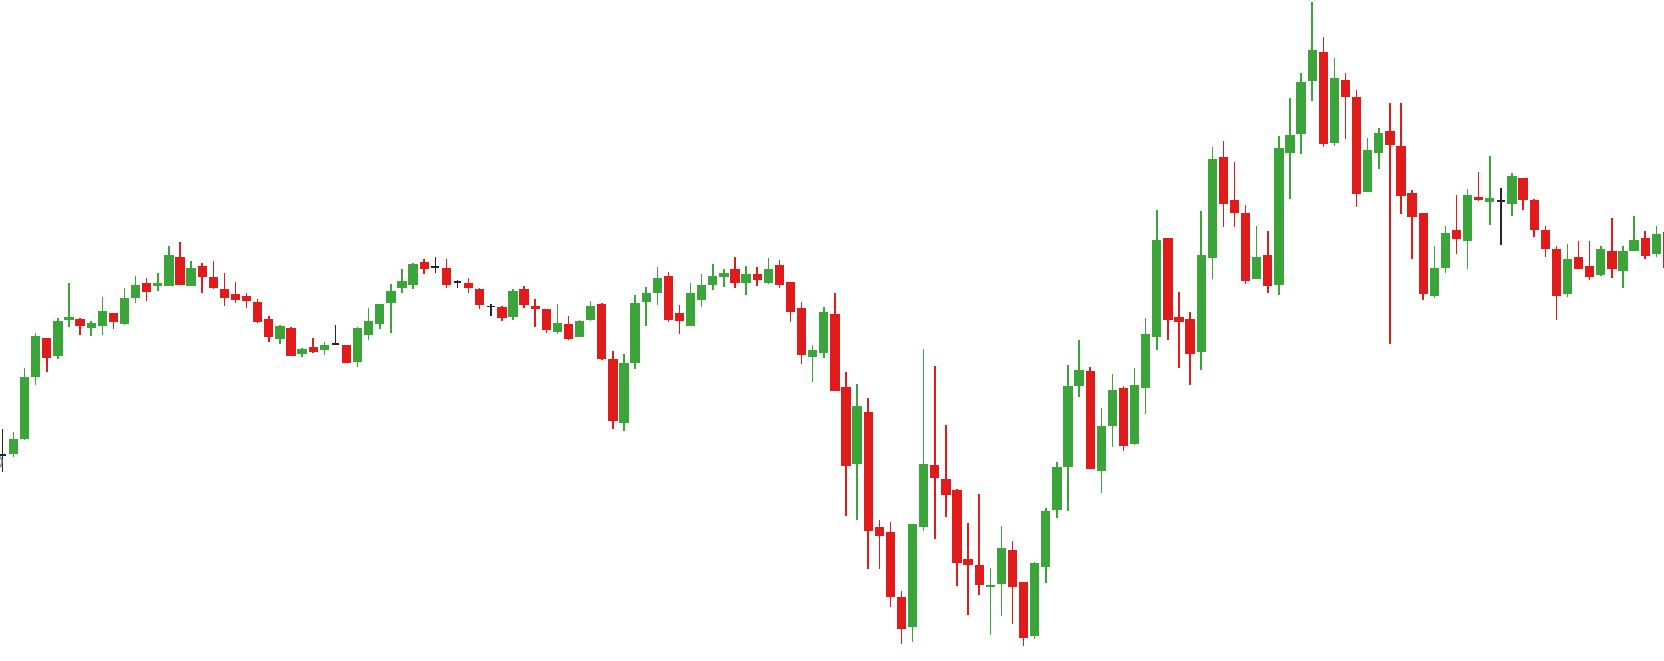buy: (337, 291, 629, 438), (1417, 211, 1574, 329)
